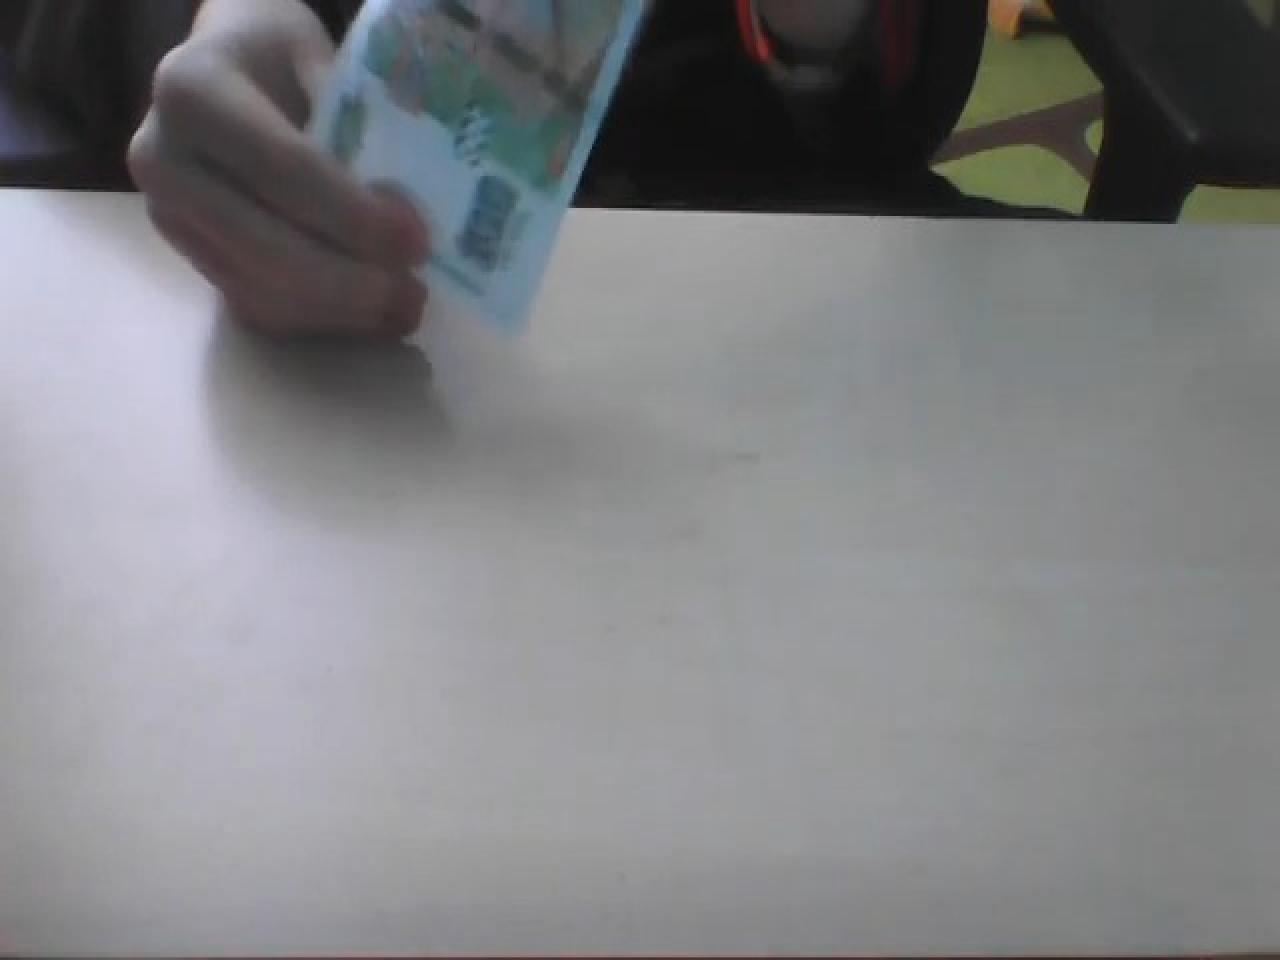100leva: (302, 0, 646, 336)
